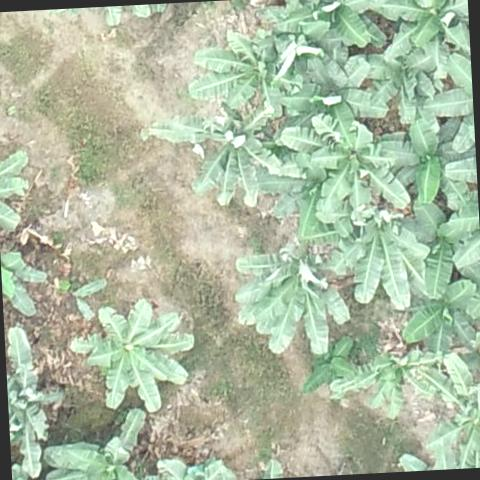Banana-plant: (146, 103, 276, 210), (84, 300, 195, 414), (229, 250, 341, 354), (306, 112, 409, 213), (323, 219, 426, 310), (187, 29, 295, 112), (379, 115, 476, 202), (284, 52, 392, 130), (401, 202, 480, 295), (415, 353, 480, 464), (260, 164, 342, 240), (406, 269, 480, 352), (274, 0, 381, 51), (374, 0, 470, 52), (366, 44, 434, 117), (305, 342, 358, 396)
